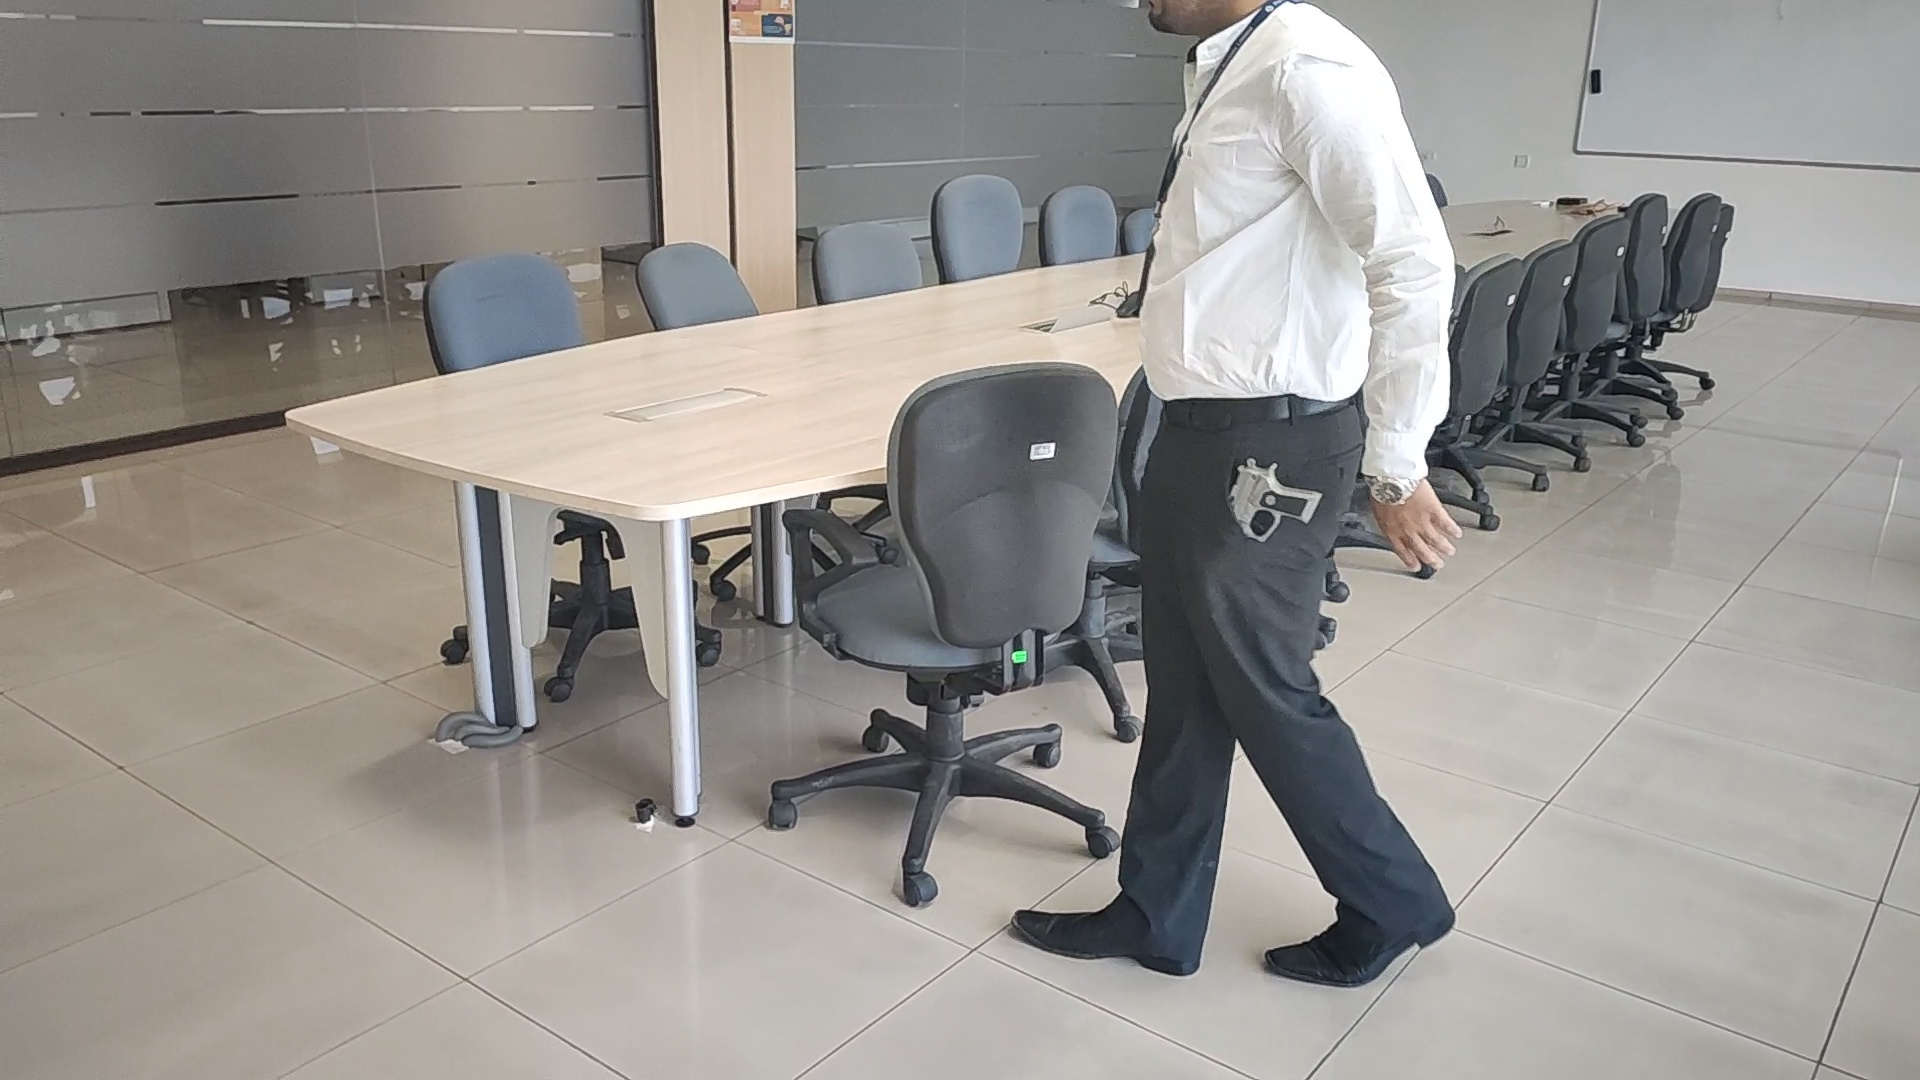gun: (1224, 456, 1321, 543)
